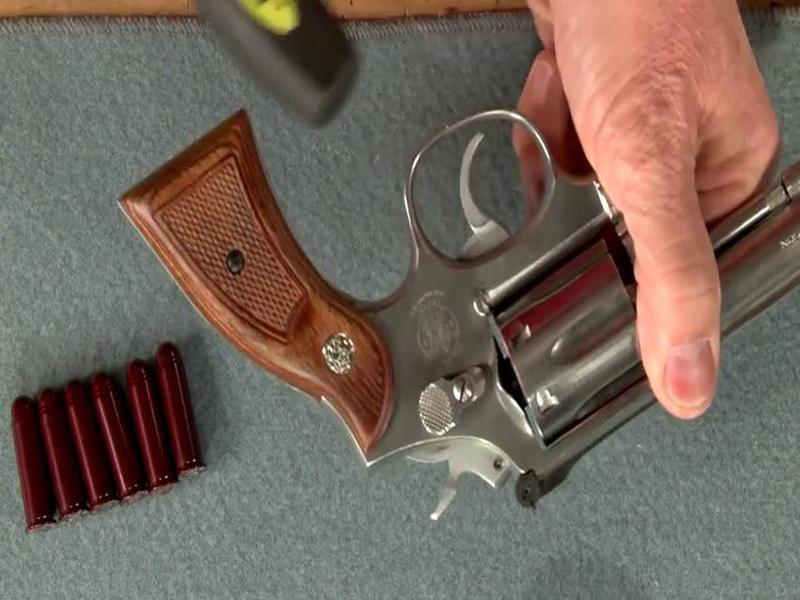Revolver: (100, 83, 798, 515)
